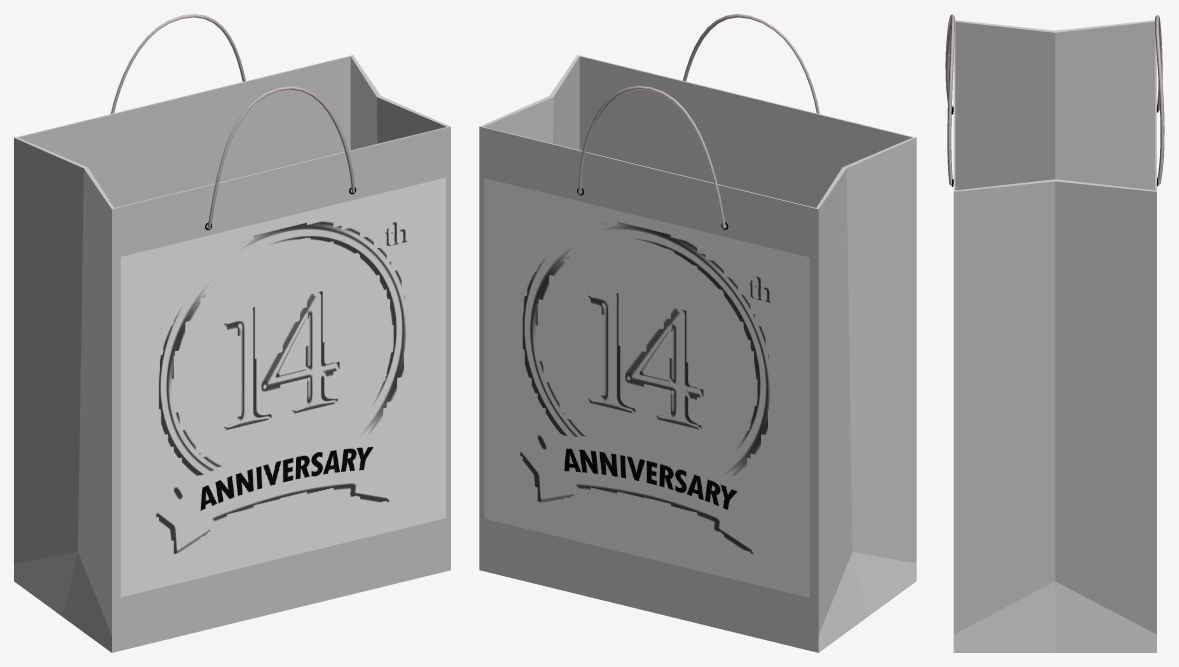
The model's file is NewShoppingBag 3.fbx.
3 renders of one model, left to right at view 1: azimuth 30°, elevation 25°; view 2: azimuth 150°, elevation 25°; view 3: azimuth 270°, elevation 25°, orthographic. The views are drawn at different scales.
Visible parts, largest first — view 1: Cube; view 2: Cube; view 3: Cube.
Part boxes in pixels (box(x1,y1,x2,y2)): Cube: box(14, 14, 450, 652); Cube: box(479, 14, 916, 652); Cube: box(945, 14, 1164, 652).
Size of the model in its own units: 200 by 296 by 108.
